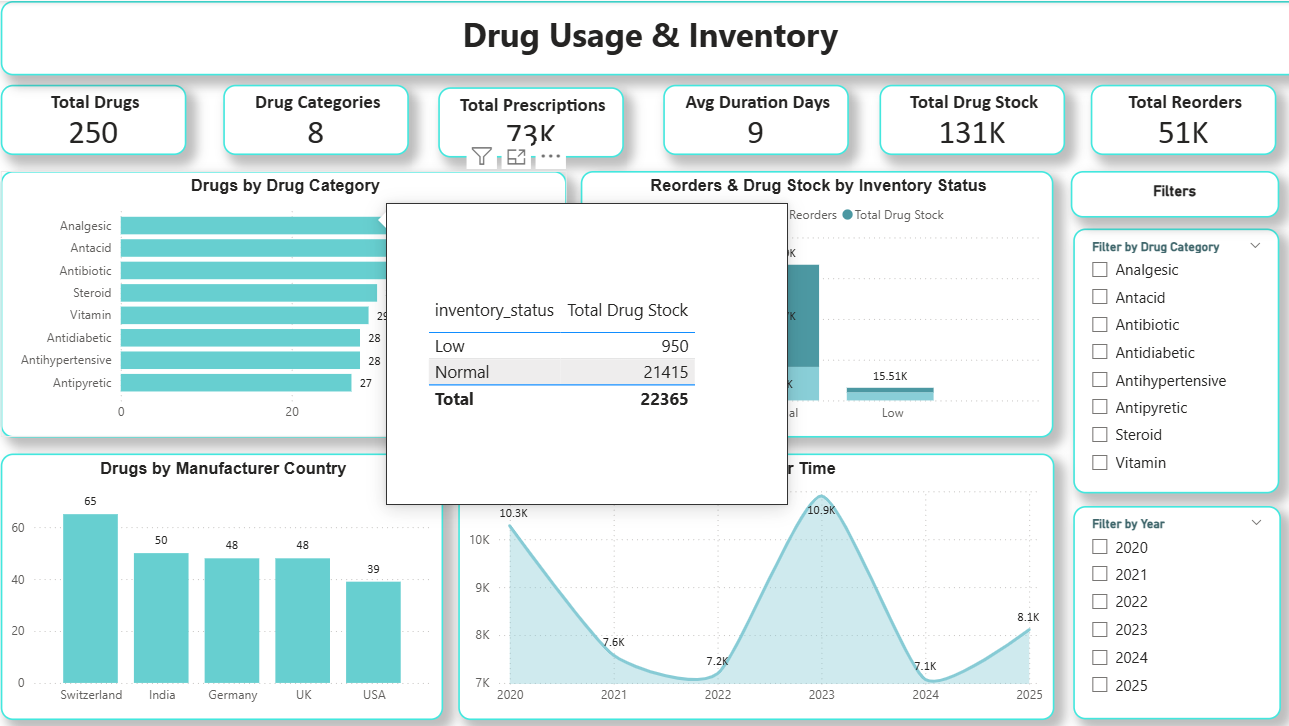

The dashboard page shown, as its layout file describes it:
{"tool":"powerbi","page":{"name":"Drugs","canvas":[1280,720],"ordinal":3},"visuals":[{"type":"card","title":"Total Drugs","fields":{"Values":["Drugs.Total Number of Drugs"]},"box":[3.9,81.8,181.8,68.8],"z":0},{"type":"textbox","box":[3.9,0,1271.4,72.7],"z":1000},{"type":"card","title":"Drug Categories","fields":{"Values":["Drugs.Total Number of Drug Categories"]},"box":[220.8,81.8,181.8,68.8],"z":2000},{"type":"card","title":"Total Prescriptions","fields":{"Values":["Prescriptions.Total Prescriptions"]},"box":[431.2,84.4,181.8,68.8],"z":3000},{"type":"card","title":"Avg Duration Days","fields":{"Values":["Prescriptions.Average Duration Days"]},"box":[651.9,81.8,181.8,68.8],"z":4000},{"type":"barChart","title":"Drugs by Drug Category","fields":{"Y":["Drugs.Total Number of Drugs"],"Category":["Drugs.drug_category"]},"box":[3.7,166.3,553.9,260.5],"z":5000},{"type":"columnChart","title":"Drugs by Manufacturer Country","fields":{"Category":["Drugs.manufacturer_country"],"Y":["Drugs.Total Number of Drugs"]},"box":[3.9,442.9,432.5,261],"z":6000},{"type":"slicer","fields":{"Values":["Drugs.drug_category"]},"box":[1052.9,222.6,201.8,259.2],"z":8000},{"type":"card","title":"Total Drug Stock","fields":{"Values":["Drug Inventory.Total Drug Stock"]},"box":[863.6,81.8,181.8,68.8],"z":9000},{"type":"card","title":"Total Reorders","fields":{"Values":["Drug Inventory.Total Number of Reorders"]},"box":[1070.1,81.8,181.8,68.8],"z":10000},{"type":"columnChart","title":"Reorders & Drug Stock by Inventory Status","fields":{"Category":["Drug Inventory.inventory_status"],"Y":["Drug Inventory.Total Number of Reorders","Drug Inventory.Total Drug Stock"]},"box":[571.4,166.2,462.3,261],"z":11000},{"type":"areaChart","title":"Reorders Over Time","fields":{"Category":["Date.year"],"Y":["Drug Inventory.Total Number of Reorders"]},"box":[450.6,442.9,583.1,261],"z":12000},{"type":"slicer","fields":{"Values":["Date.year"]},"box":[1052.9,494,203,209.1],"z":13000},{"type":"textbox","box":[1050.4,166.3,204.2,45.2],"z":14000}]}

Visuals, with their boxes in screenshot pixels (x1, y1, x2, y2), scaled from the page's 1280x720 canvas onto the 1289x726 screenshot:
"Total Drugs" card: [4,82,187,152]
textbox: [4,0,1284,73]
"Drug Categories" card: [222,82,405,152]
"Total Prescriptions" card: [434,85,617,154]
"Avg Duration Days" card: [656,82,840,152]
"Drugs by Drug Category" barChart: [4,168,562,430]
"Drugs by Manufacturer Country" columnChart: [4,447,439,710]
slicer - Drugs.drug_category: [1060,224,1264,486]
"Total Drug Stock" card: [870,82,1053,152]
"Total Reorders" card: [1078,82,1261,152]
"Reorders & Drug Stock by Inventory Status" columnChart: [575,168,1041,431]
"Reorders Over Time" areaChart: [454,447,1041,710]
slicer - Date.year: [1060,498,1265,709]
textbox: [1058,168,1263,213]
